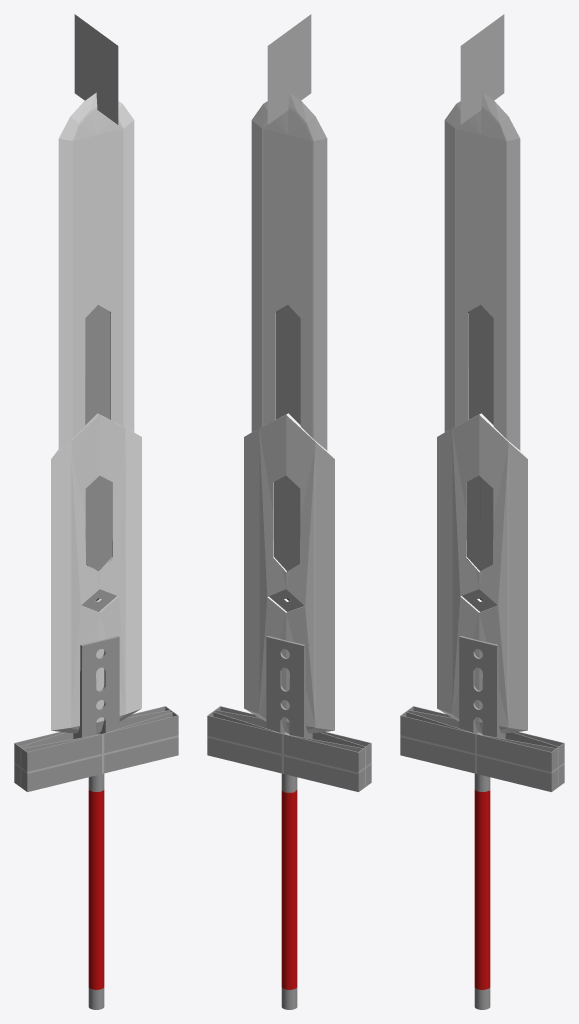
File: firstsword.obj
3 renders of one model, left to right at view 1: azimuth 30°, elevation 25°; view 2: azimuth 150°, elevation 25°; view 3: azimuth 330°, elevation 25°, orthographic.
Parts seen in each view (by area): view 1: edge01, edge02, boxO, grip_Cylinder, Plane, centerplate_center, boxC; view 2: edge01, edge02, boxO, grip_Cylinder, Plane, centerplate_center, boxC; view 3: edge02, edge01, boxO, grip_Cylinder, Plane, centerplate_center, boxC.
Boxes of the visible parts, x1,y1,x2,y2 form: edge01: (51,92,99,733); edge02: (96,101,141,733); boxO: (14,706,178,791); grip_Cylinder: (88,773,104,1009); Plane: (74,14,118,124); centerplate_center: (73,312,119,738); boxC: (20,710,172,774); edge01: (286,92,334,733); edge02: (244,101,289,733); boxO: (207,706,371,791); grip_Cylinder: (281,773,297,1009); Plane: (267,14,311,124); centerplate_center: (266,598,312,738); boxC: (213,710,365,780); edge02: (479,92,527,733); edge01: (437,101,482,733); boxO: (400,706,564,791); grip_Cylinder: (474,773,490,1009); Plane: (460,14,504,124); centerplate_center: (459,312,505,738); boxC: (406,710,559,787).
Size of the model in its own units: 4 by 24.65 by 2.
